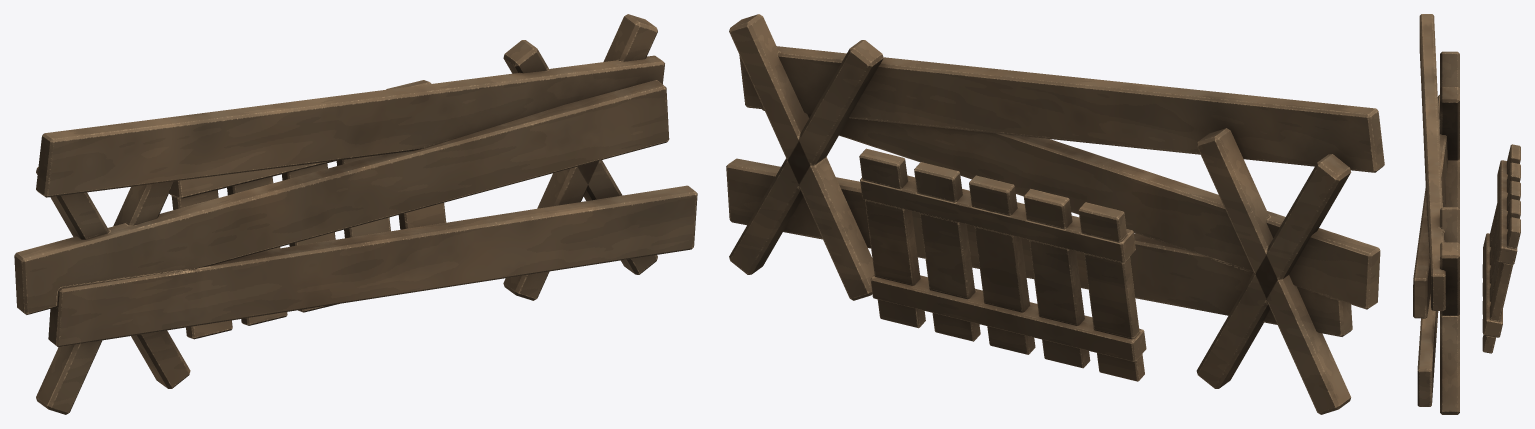
The model's file is Barricada_Madera.glb.
3 renders of one model, left to right at view 1: azimuth 30°, elevation 25°; view 2: azimuth 150°, elevation 25°; view 3: azimuth 270°, elevation 25°, orthographic. The views are drawn at different scales.
Parts seen in each view (by area): view 1: Barricada_Madera; view 2: Barricada_Madera; view 3: Barricada_Madera.
Boxes of the visible parts, x1,y1,x2,y2 form: Barricada_Madera: (14, 14, 697, 414); Barricada_Madera: (726, 14, 1384, 414); Barricada_Madera: (1413, 14, 1520, 414).
Bounding box in the file's own units: 9.05 × 3.85 × 1.87.
1 material, 1 textured.
